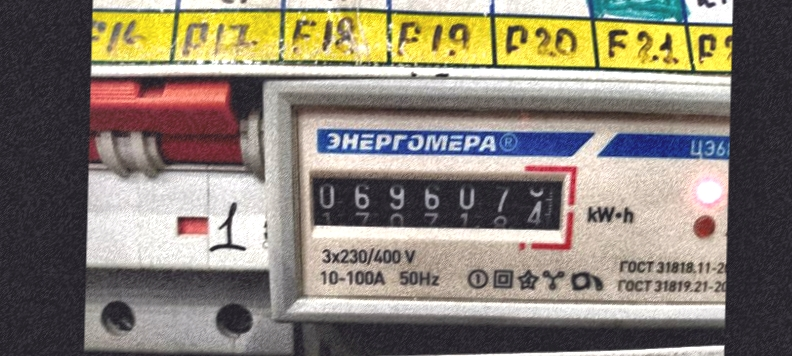0: (316, 180, 337, 211), (457, 181, 477, 211)
4: (524, 198, 544, 227)
6: (350, 180, 373, 211), (422, 182, 442, 210)
7: (492, 183, 510, 213)
9: (387, 182, 406, 211)
screen: (292, 153, 579, 250)
